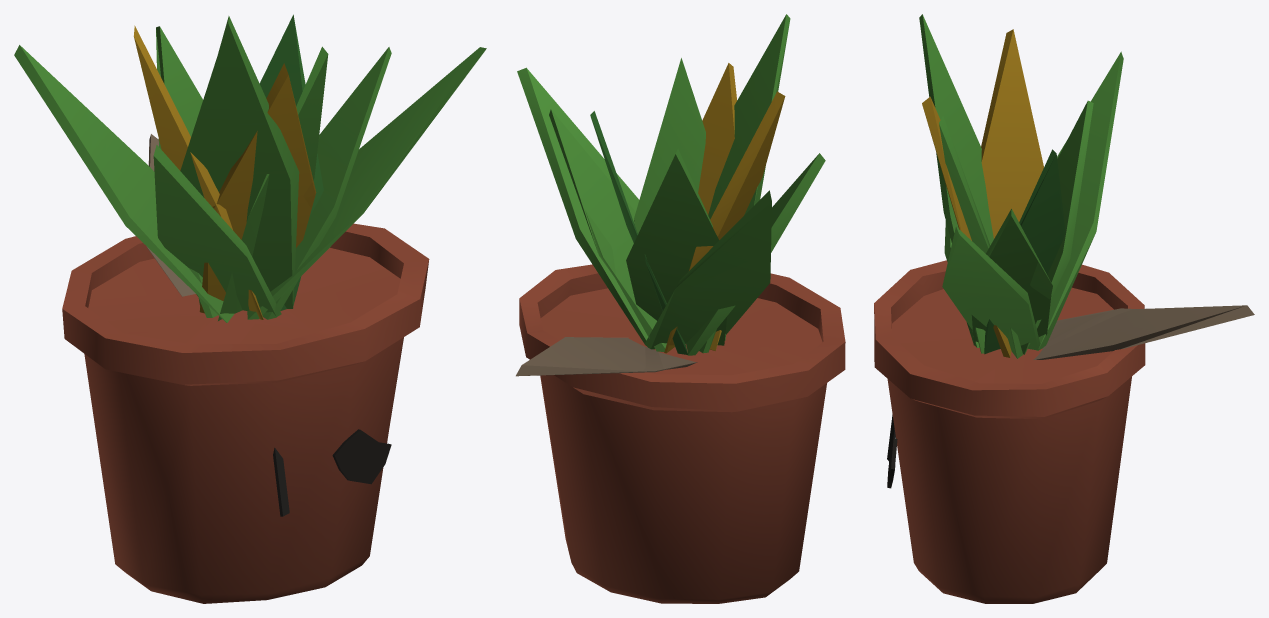
File: 56_plante_pot.fbx
3 views of the same model, side by side, from view 1: azimuth 30°, elevation 25°; view 2: azimuth 150°, elevation 25°; view 3: azimuth 270°, elevation 25° (orthographic). The views are drawn at different scales.
Visible parts, largest first — view 1: Pot, Feuilles; view 2: Pot, Feuilles; view 3: Pot, Feuilles.
Boxes of the visible parts, x1,y1,x2,y2 form: Pot: (62,223,429,603); Feuilles: (14,14,486,322); Pot: (519,264,845,603); Feuilles: (516,14,825,376); Pot: (874,260,1145,603); Feuilles: (919,14,1254,359).
Bounding box in the file's own units: 0.616 × 0.924 × 0.616.
Materials: 1 (1 with a texture image).
